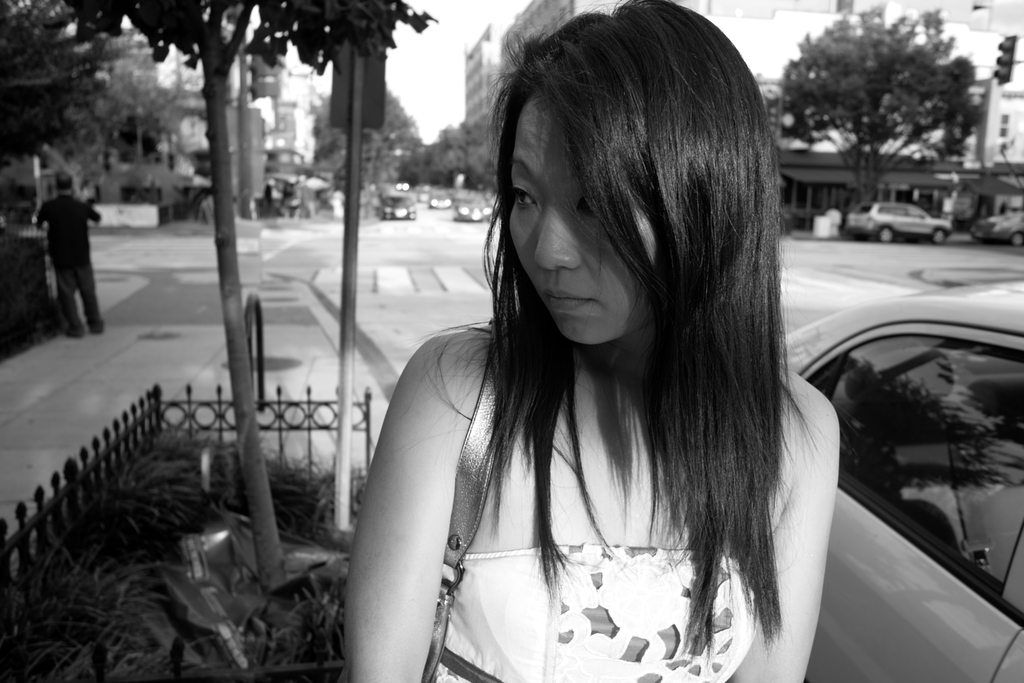cars: (788, 269, 1023, 682), (838, 195, 953, 246), (962, 204, 1023, 241), (379, 183, 415, 220), (455, 200, 485, 219)
